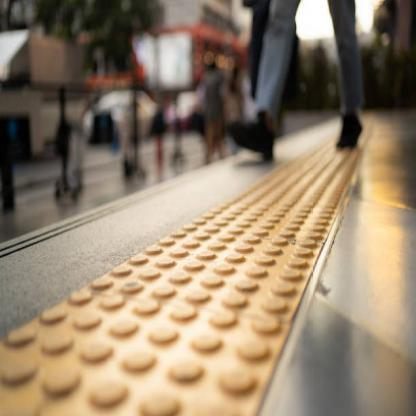podotacti: (1, 161, 354, 410)
